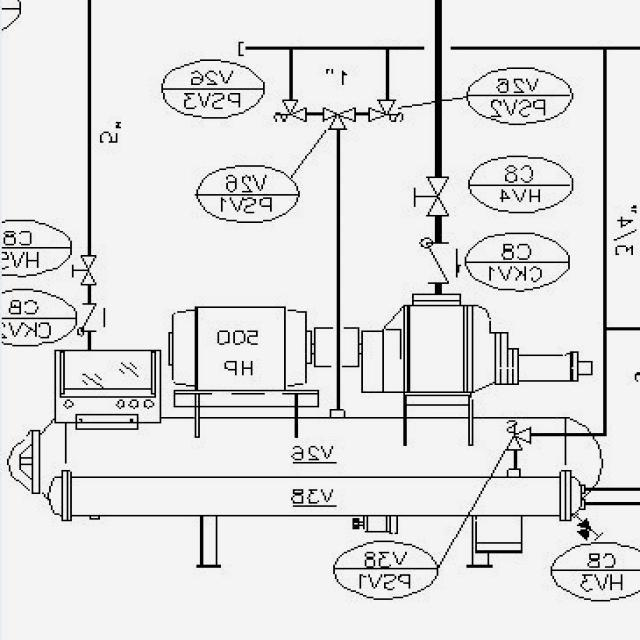3 Way Gate Valve: (320, 104, 360, 132)
Hand Operated Gate Valve: (404, 168, 462, 224), (70, 248, 110, 290)
